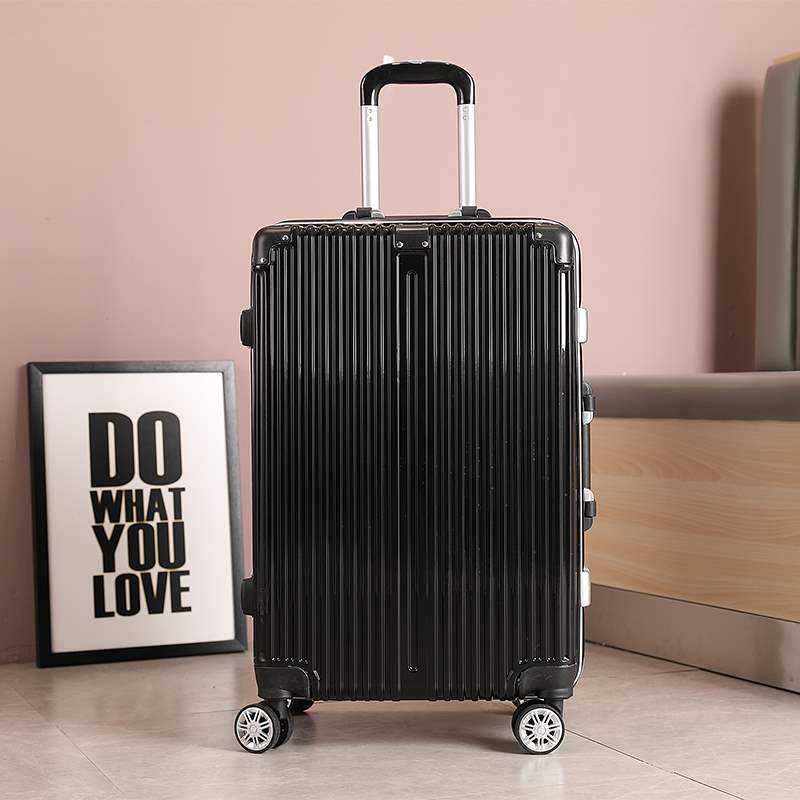box: (251, 219, 583, 701)
wheel: (234, 699, 294, 754), (510, 700, 566, 755)
